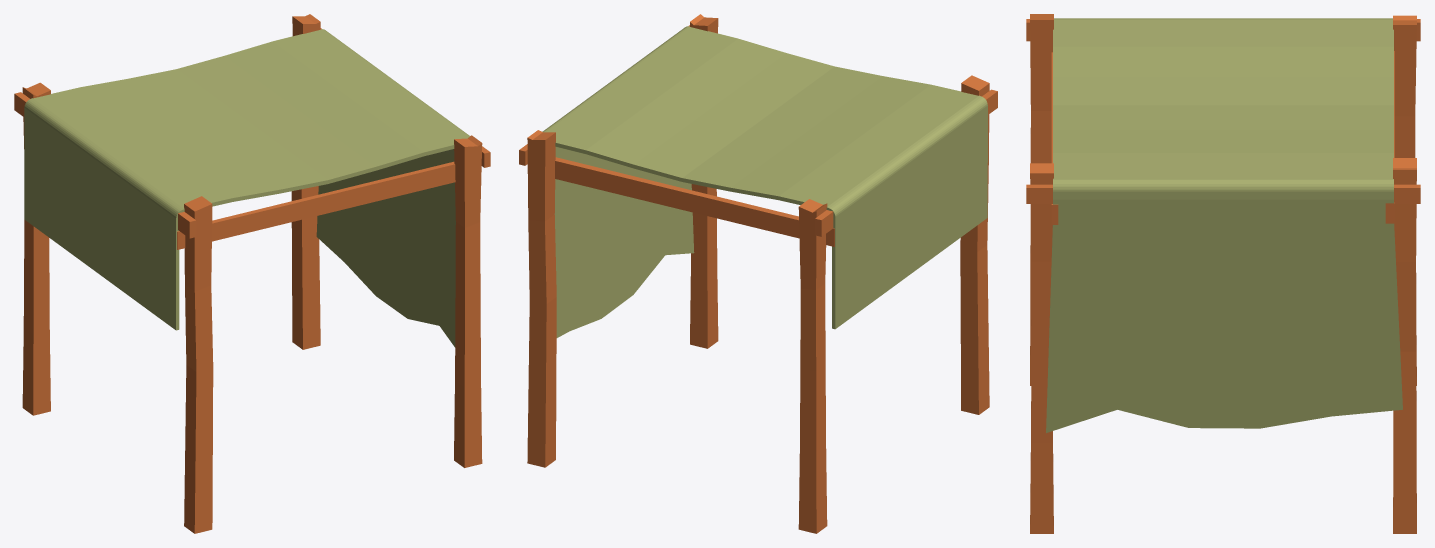
Rendered from WoodBase5.fbx.
3 renders of one model, left to right at view 1: azimuth 30°, elevation 25°; view 2: azimuth 150°, elevation 25°; view 3: azimuth 270°, elevation 25°, orthographic. The views are drawn at different scales.
Parts seen in each view (by area): view 1: WoodBase5; view 2: WoodBase5; view 3: WoodBase5.
Part boxes in pixels (<box>): WoodBase5: <box>14,14,490,533</box>; WoodBase5: <box>519,14,997,533</box>; WoodBase5: <box>1026,14,1420,533</box>.
Bounding box in the file's own units: 200 × 205 × 200.
